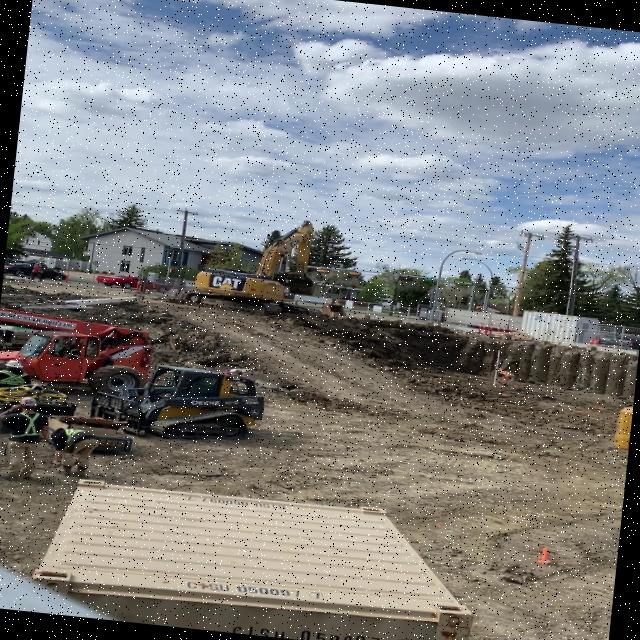Excavator: (165, 203, 332, 316)
Loader: (86, 354, 283, 456)
